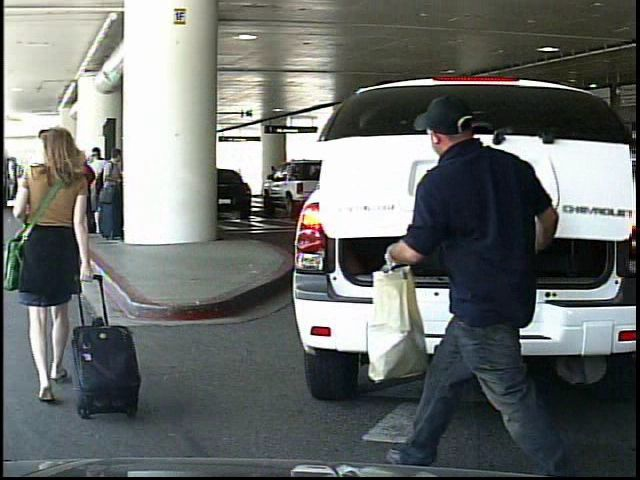person: (386, 67, 569, 472), (4, 120, 113, 422), (263, 161, 284, 208)
